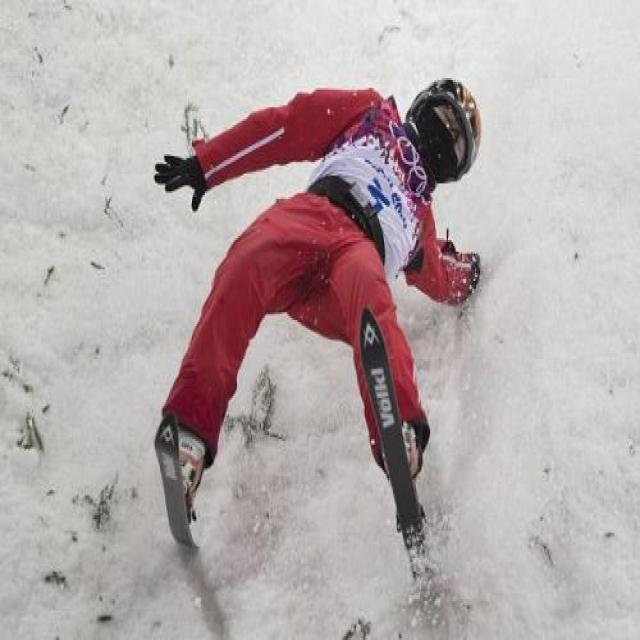down: (146, 70, 484, 527)
